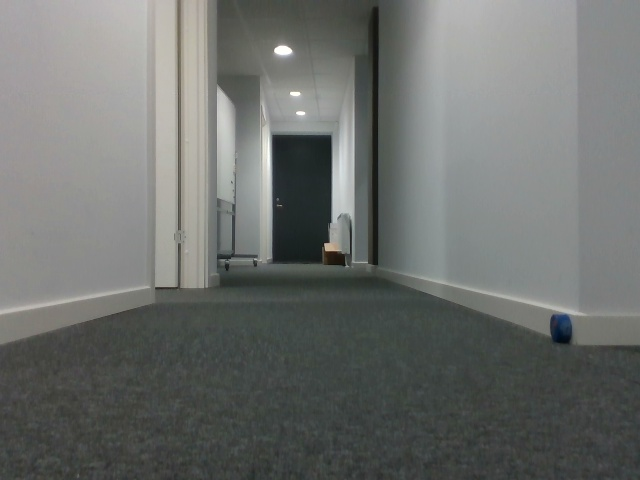alfa: (548, 310, 576, 347)
